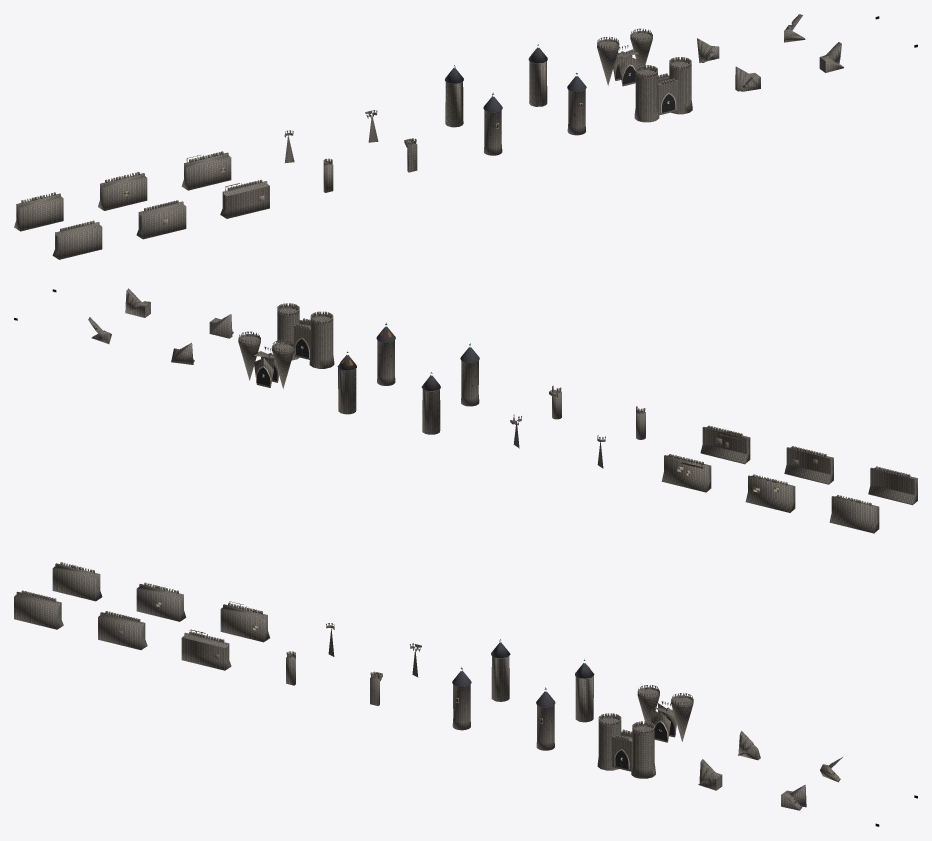
The model's file is concordia_wall_kit_lods.glb.
3 views of the same model, one above another, from view 1: azimuth 30°, elevation 25°; view 2: azimuth 150°, elevation 25°; view 3: azimuth 330°, elevation 25° (orthographic).
Visible parts, largest first — view 1: GATE_Sealed_Twin_LOD1, GATE_Sealed_Twin_LOD2, WALL_Mod_C_LOD1, WALL_Mod_C_LOD2, WALL_Mod_B_LOD1, WALL_Mod_A_LOD1, WALL_Mod_A_LOD2, WALL_Mod_B_LOD2, TOWER_Guard_Roof_LOD2, TOWER_Guard_Patched_LOD2, TOWER_Guard_Roof_LOD1, TOWER_Guard_Patched_LOD1; view 2: GATE_Sealed_Twin_LOD1, GATE_Sealed_Twin_LOD2, WALL_Mod_C_LOD1, WALL_Mod_A_LOD2, WALL_Mod_B_LOD1, WALL_Mod_A_LOD1, WALL_Mod_B_LOD2, WALL_Mod_C_LOD2, TOWER_Guard_Patched_LOD2, TOWER_Guard_Roof_LOD2, TOWER_Guard_Roof_LOD1, TOWER_Guard_Patched_LOD1; view 3: GATE_Sealed_Twin_LOD1, GATE_Sealed_Twin_LOD2, WALL_Mod_C_LOD1, WALL_Mod_C_LOD2, WALL_Mod_A_LOD2, WALL_Mod_B_LOD1, WALL_Mod_A_LOD1, WALL_Mod_B_LOD2, TOWER_Guard_Patched_LOD2, TOWER_Guard_Roof_LOD2, TOWER_Guard_Patched_LOD1, TOWER_Guard_Roof_LOD1.
Part boxes in pixels (<box>): GATE_Sealed_Twin_LOD1: <box>634,57,692,122</box>; GATE_Sealed_Twin_LOD2: <box>597,28,652,86</box>; WALL_Mod_C_LOD1: <box>220,179,269,218</box>; WALL_Mod_C_LOD2: <box>181,151,231,190</box>; WALL_Mod_B_LOD1: <box>136,200,186,239</box>; WALL_Mod_A_LOD1: <box>52,220,102,259</box>; WALL_Mod_A_LOD2: <box>14,192,63,231</box>; WALL_Mod_B_LOD2: <box>98,172,147,210</box>; TOWER_Guard_Roof_LOD2: <box>445,65,463,127</box>; TOWER_Guard_Patched_LOD2: <box>528,44,547,106</box>; TOWER_Guard_Roof_LOD1: <box>483,92,502,155</box>; TOWER_Guard_Patched_LOD1: <box>567,73,586,135</box>; GATE_Sealed_Twin_LOD1: <box>277,303,334,368</box>; GATE_Sealed_Twin_LOD2: <box>238,331,294,388</box>; WALL_Mod_C_LOD1: <box>700,425,750,464</box>; WALL_Mod_A_LOD2: <box>829,495,879,533</box>; WALL_Mod_B_LOD1: <box>784,446,833,484</box>; WALL_Mod_A_LOD1: <box>868,466,917,505</box>; WALL_Mod_B_LOD2: <box>745,474,795,512</box>; WALL_Mod_C_LOD2: <box>661,454,711,492</box>; TOWER_Guard_Patched_LOD2: <box>337,351,356,414</box>; TOWER_Guard_Roof_LOD2: <box>421,372,440,434</box>; TOWER_Guard_Roof_LOD1: <box>460,343,479,406</box>; TOWER_Guard_Patched_LOD1: <box>376,322,395,385</box>; GATE_Sealed_Twin_LOD1: <box>597,713,655,778</box>; GATE_Sealed_Twin_LOD2: <box>637,685,693,742</box>; WALL_Mod_C_LOD1: <box>181,629,231,670</box>; WALL_Mod_C_LOD2: <box>220,601,269,642</box>; WALL_Mod_A_LOD2: <box>52,562,102,601</box>; WALL_Mod_B_LOD1: <box>98,611,147,649</box>; WALL_Mod_A_LOD1: <box>14,590,63,629</box>; WALL_Mod_B_LOD2: <box>136,582,186,621</box>; TOWER_Guard_Patched_LOD2: <box>575,659,594,722</box>; TOWER_Guard_Roof_LOD2: <box>491,639,510,701</box>; TOWER_Guard_Patched_LOD1: <box>536,687,555,750</box>; TOWER_Guard_Roof_LOD1: <box>452,667,471,730</box>.
Bounding box in the file's own units: 514 × 34.11 × 54.5.
Materials: 10 (7 with a texture image).
